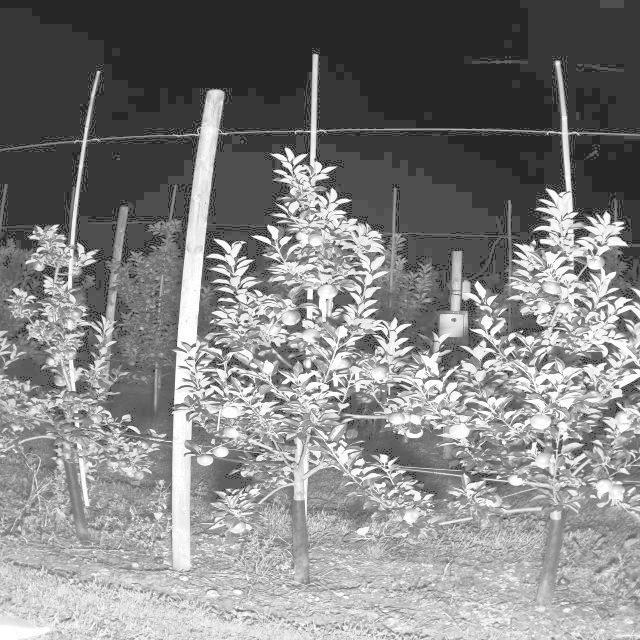Tree: (212, 152, 406, 589), (500, 185, 640, 614), (0, 221, 131, 556)
